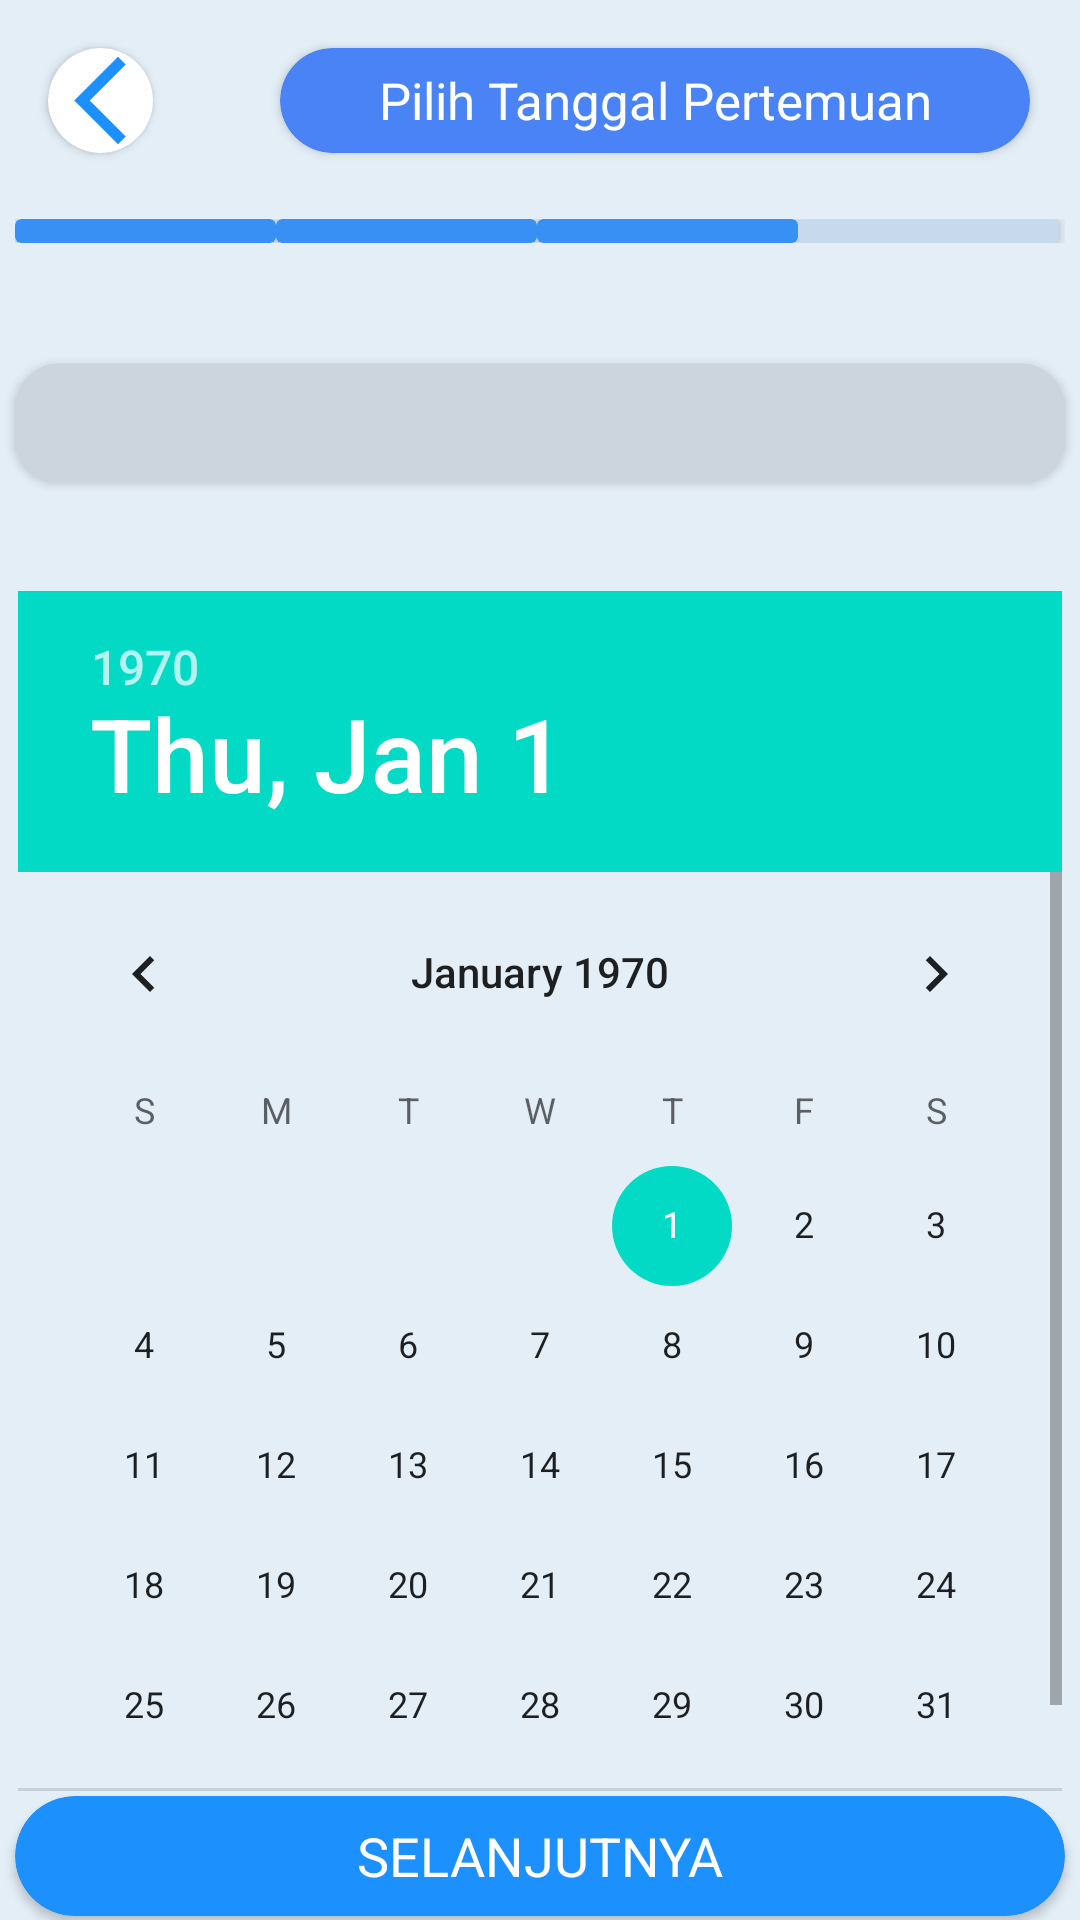

Icons on this 1080 × 1920 Android screen, each with its box as (x1, y1, x2, y2):
back: (48, 48, 153, 153)
